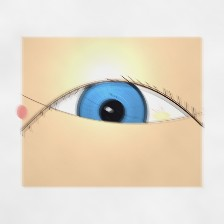pinguecula_lesion: (144, 102, 179, 130)
